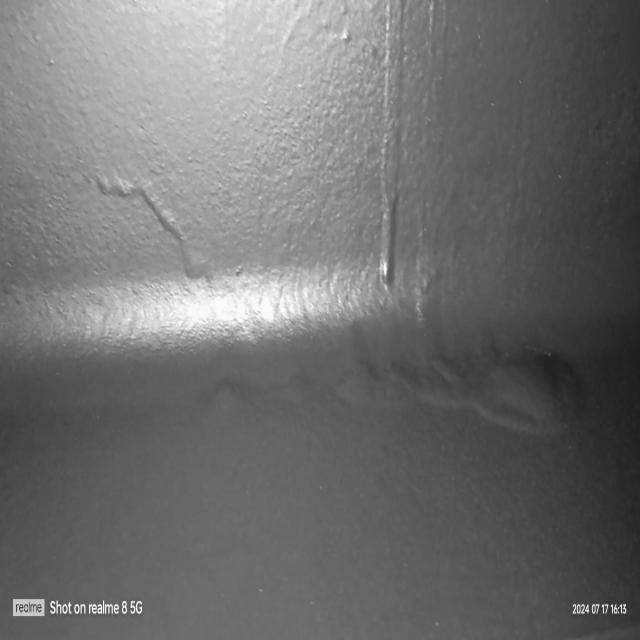paint drips: (358, 2, 467, 312), (81, 139, 223, 305)
